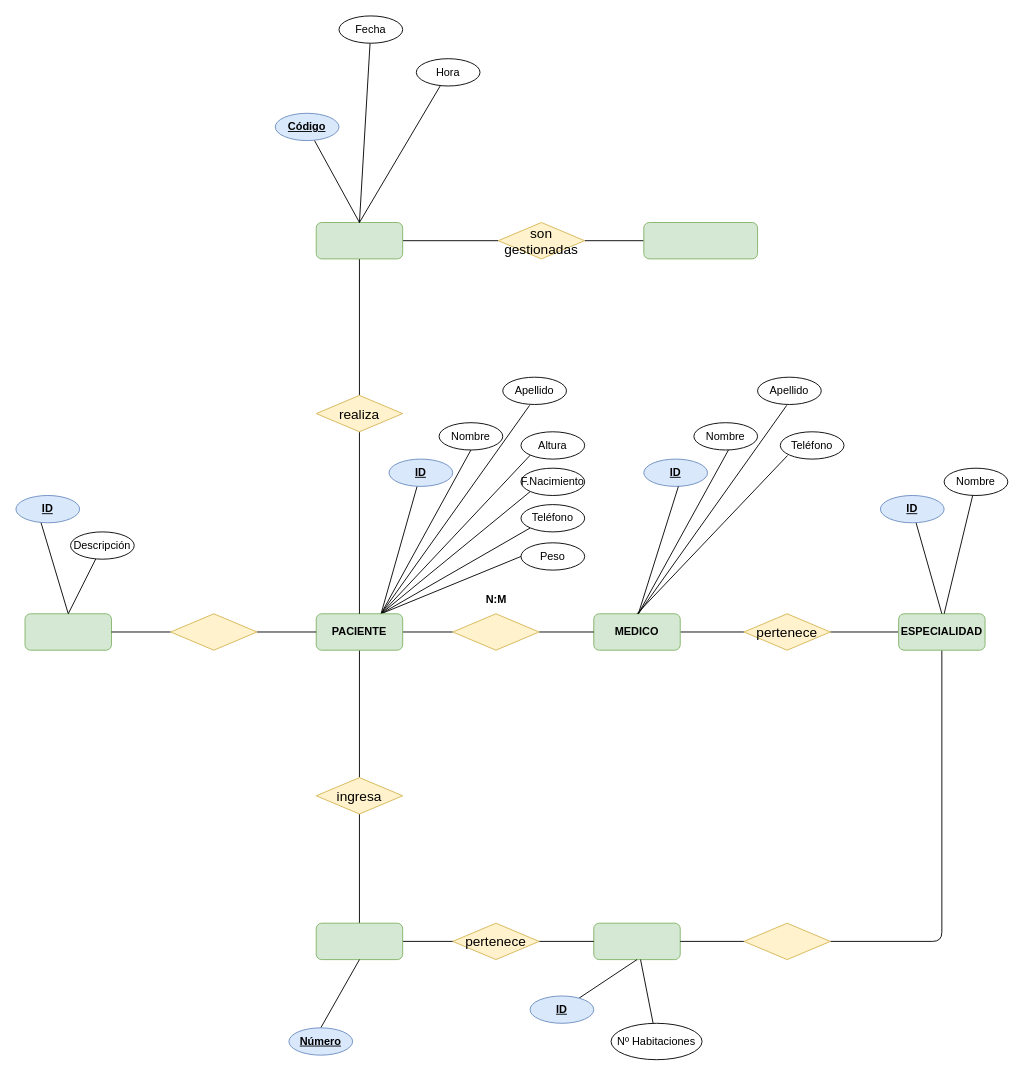
The diagram is 1024 pixels wide and 1076 high, and some of its shapes have lost their labels. The centre of each missing label's shape, as x and y in pixels:
ADMINISTRACIÓN: (700,240)
CITA: (359,240)
es atendido: (495,631)
HABITACIÓN: (359,941)
PLANTA: (636,941)
recibe: (213,631)
se encuentra: (786,941)
TRATAMIENTO: (67,631)
